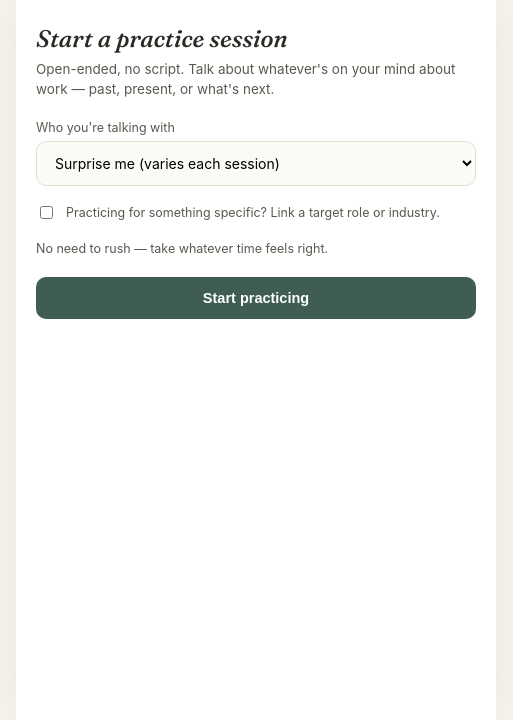
Scenario: ConversationPage mic control › does not render the mic control when SpeechRecognition is unavailable, and typed submission still works
Expected: the button "Start practicing" is shown, left=36, top=277, right=476, bottom=319
Submit the form named "start practicing", box left=36, top=120, right=476, bottom=319
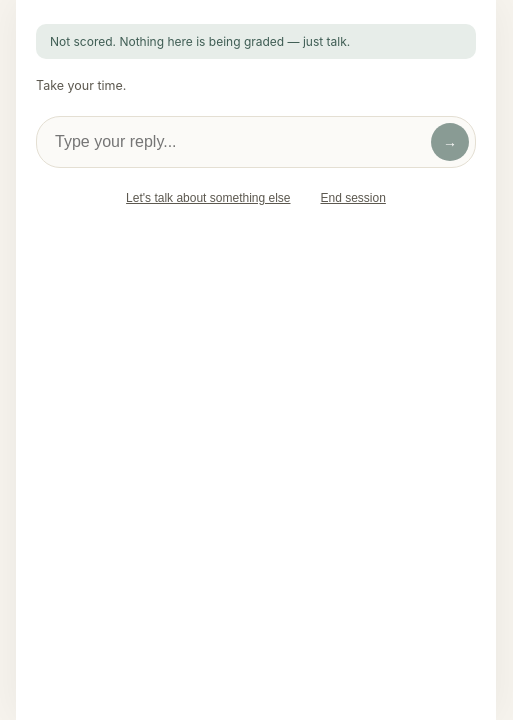
Now the field with placeholder "Type your reply..." is shown
In the field with placeholder "Type your reply...": coordinates (238, 142) left=53, top=132, right=423, bottom=152, type "a typed reply"
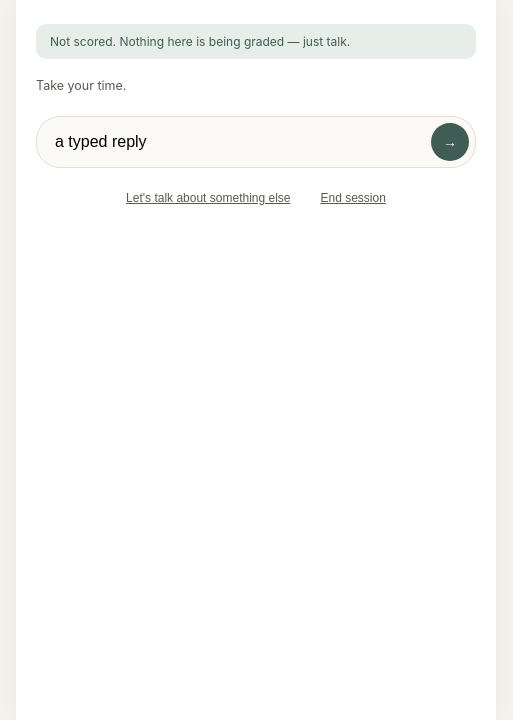
Submit the form with placeholder "Type your reply...", box left=36, top=116, right=476, bottom=168
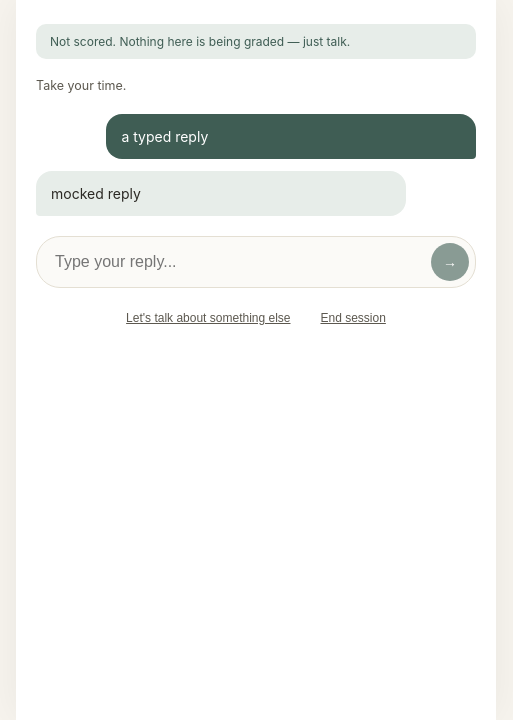
Now the text "mocked reply" is shown, box left=36, top=171, right=406, bottom=216
